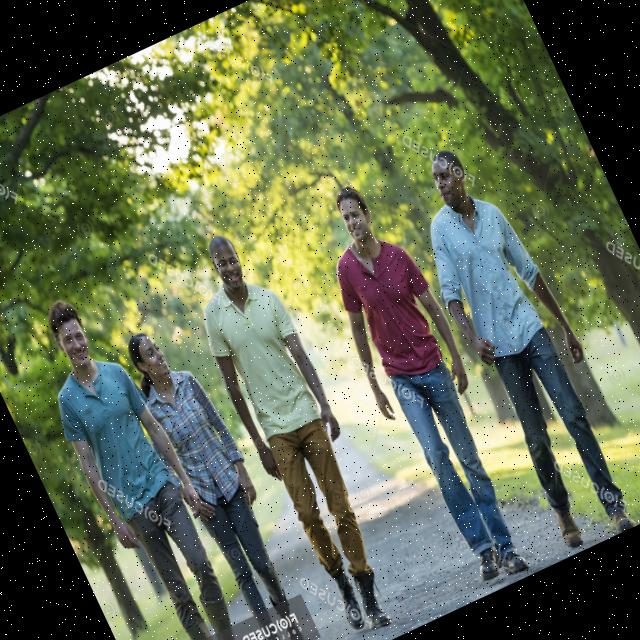Person: (291, 175, 555, 594), (166, 219, 427, 640), (386, 133, 640, 559), (16, 284, 286, 640), (106, 314, 333, 640)
